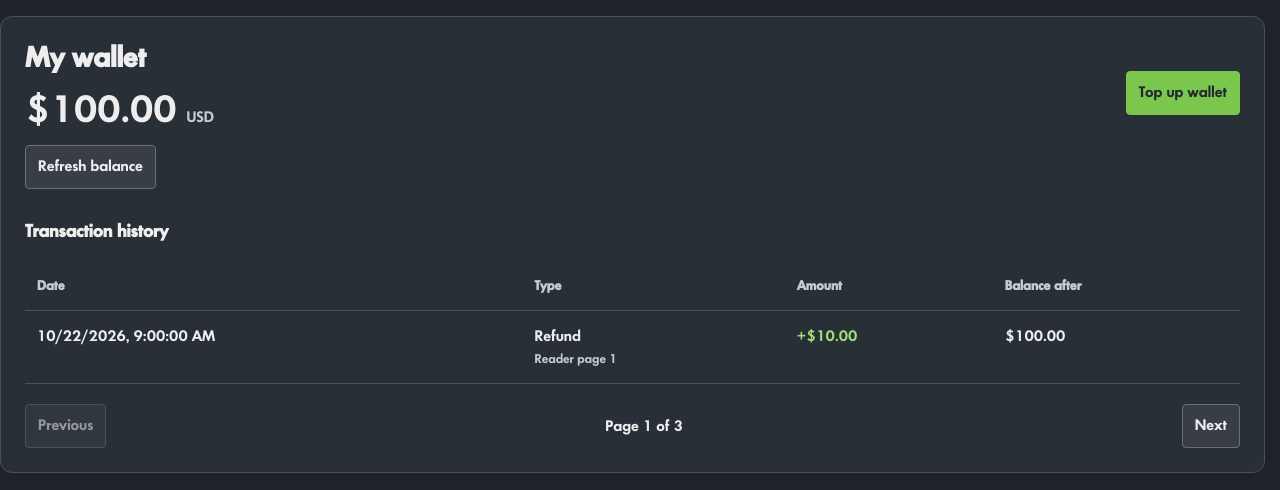
wallet transaction history (#74) › returns to an available page when the statement shrinks to 0 records
The width and height of the screenshot is (1280, 490).
Later steps or results of the test are not shown.
expect the text "Reader page 1" is shown: met, box [534,352,617,366]
Click the button "Next" at (1211, 426), box [1182,404,1240,448]
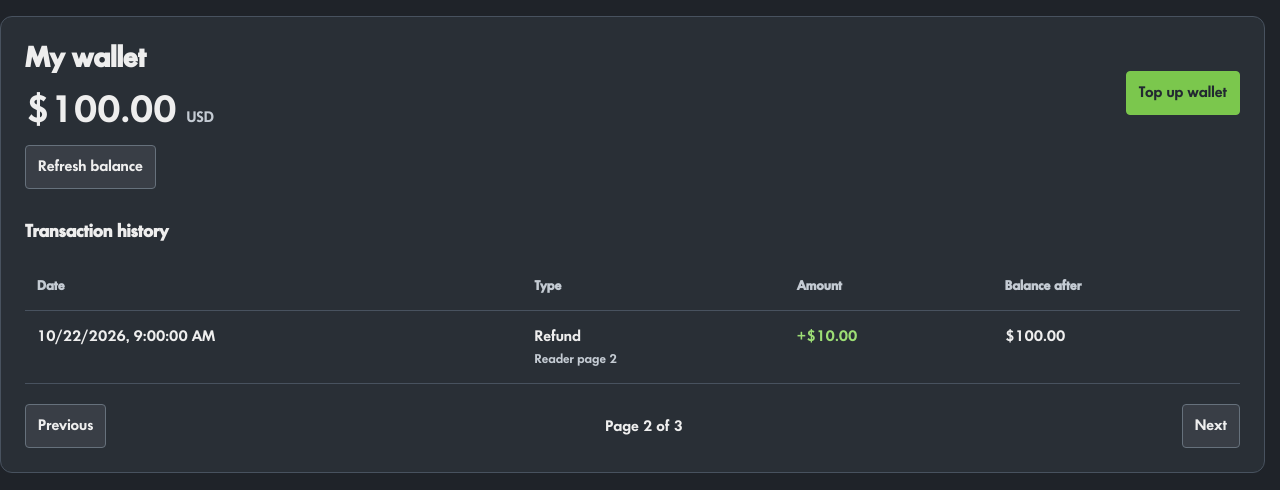
expect the text "Reader page 2" is shown: met, box [534,352,617,366]
Click the button "Next" at (1211, 426), box [1182,404,1240,448]
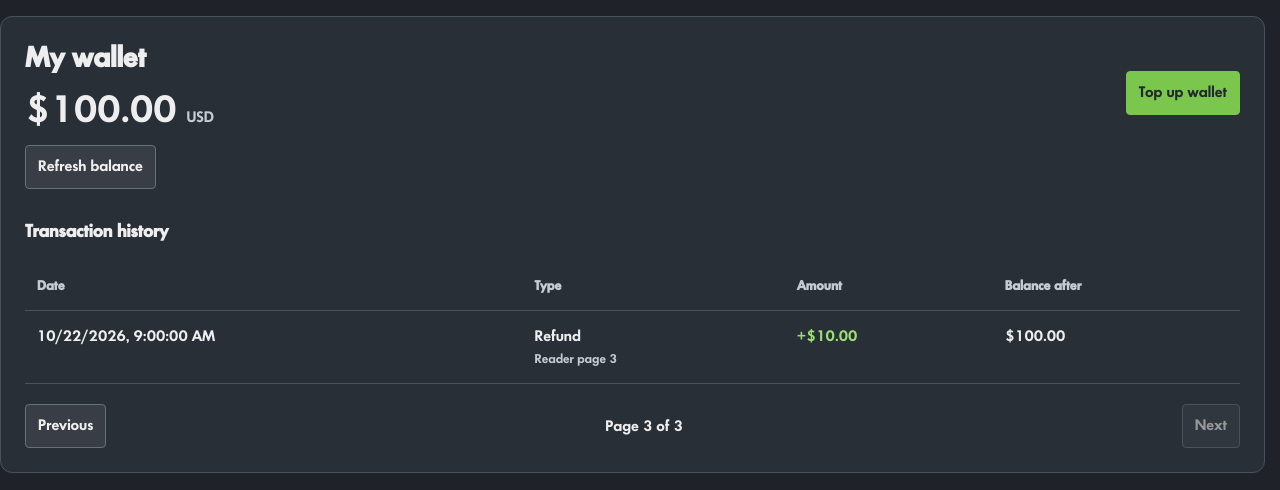
expect the text "Reader page 3" is shown: met, box [534,352,617,366]
